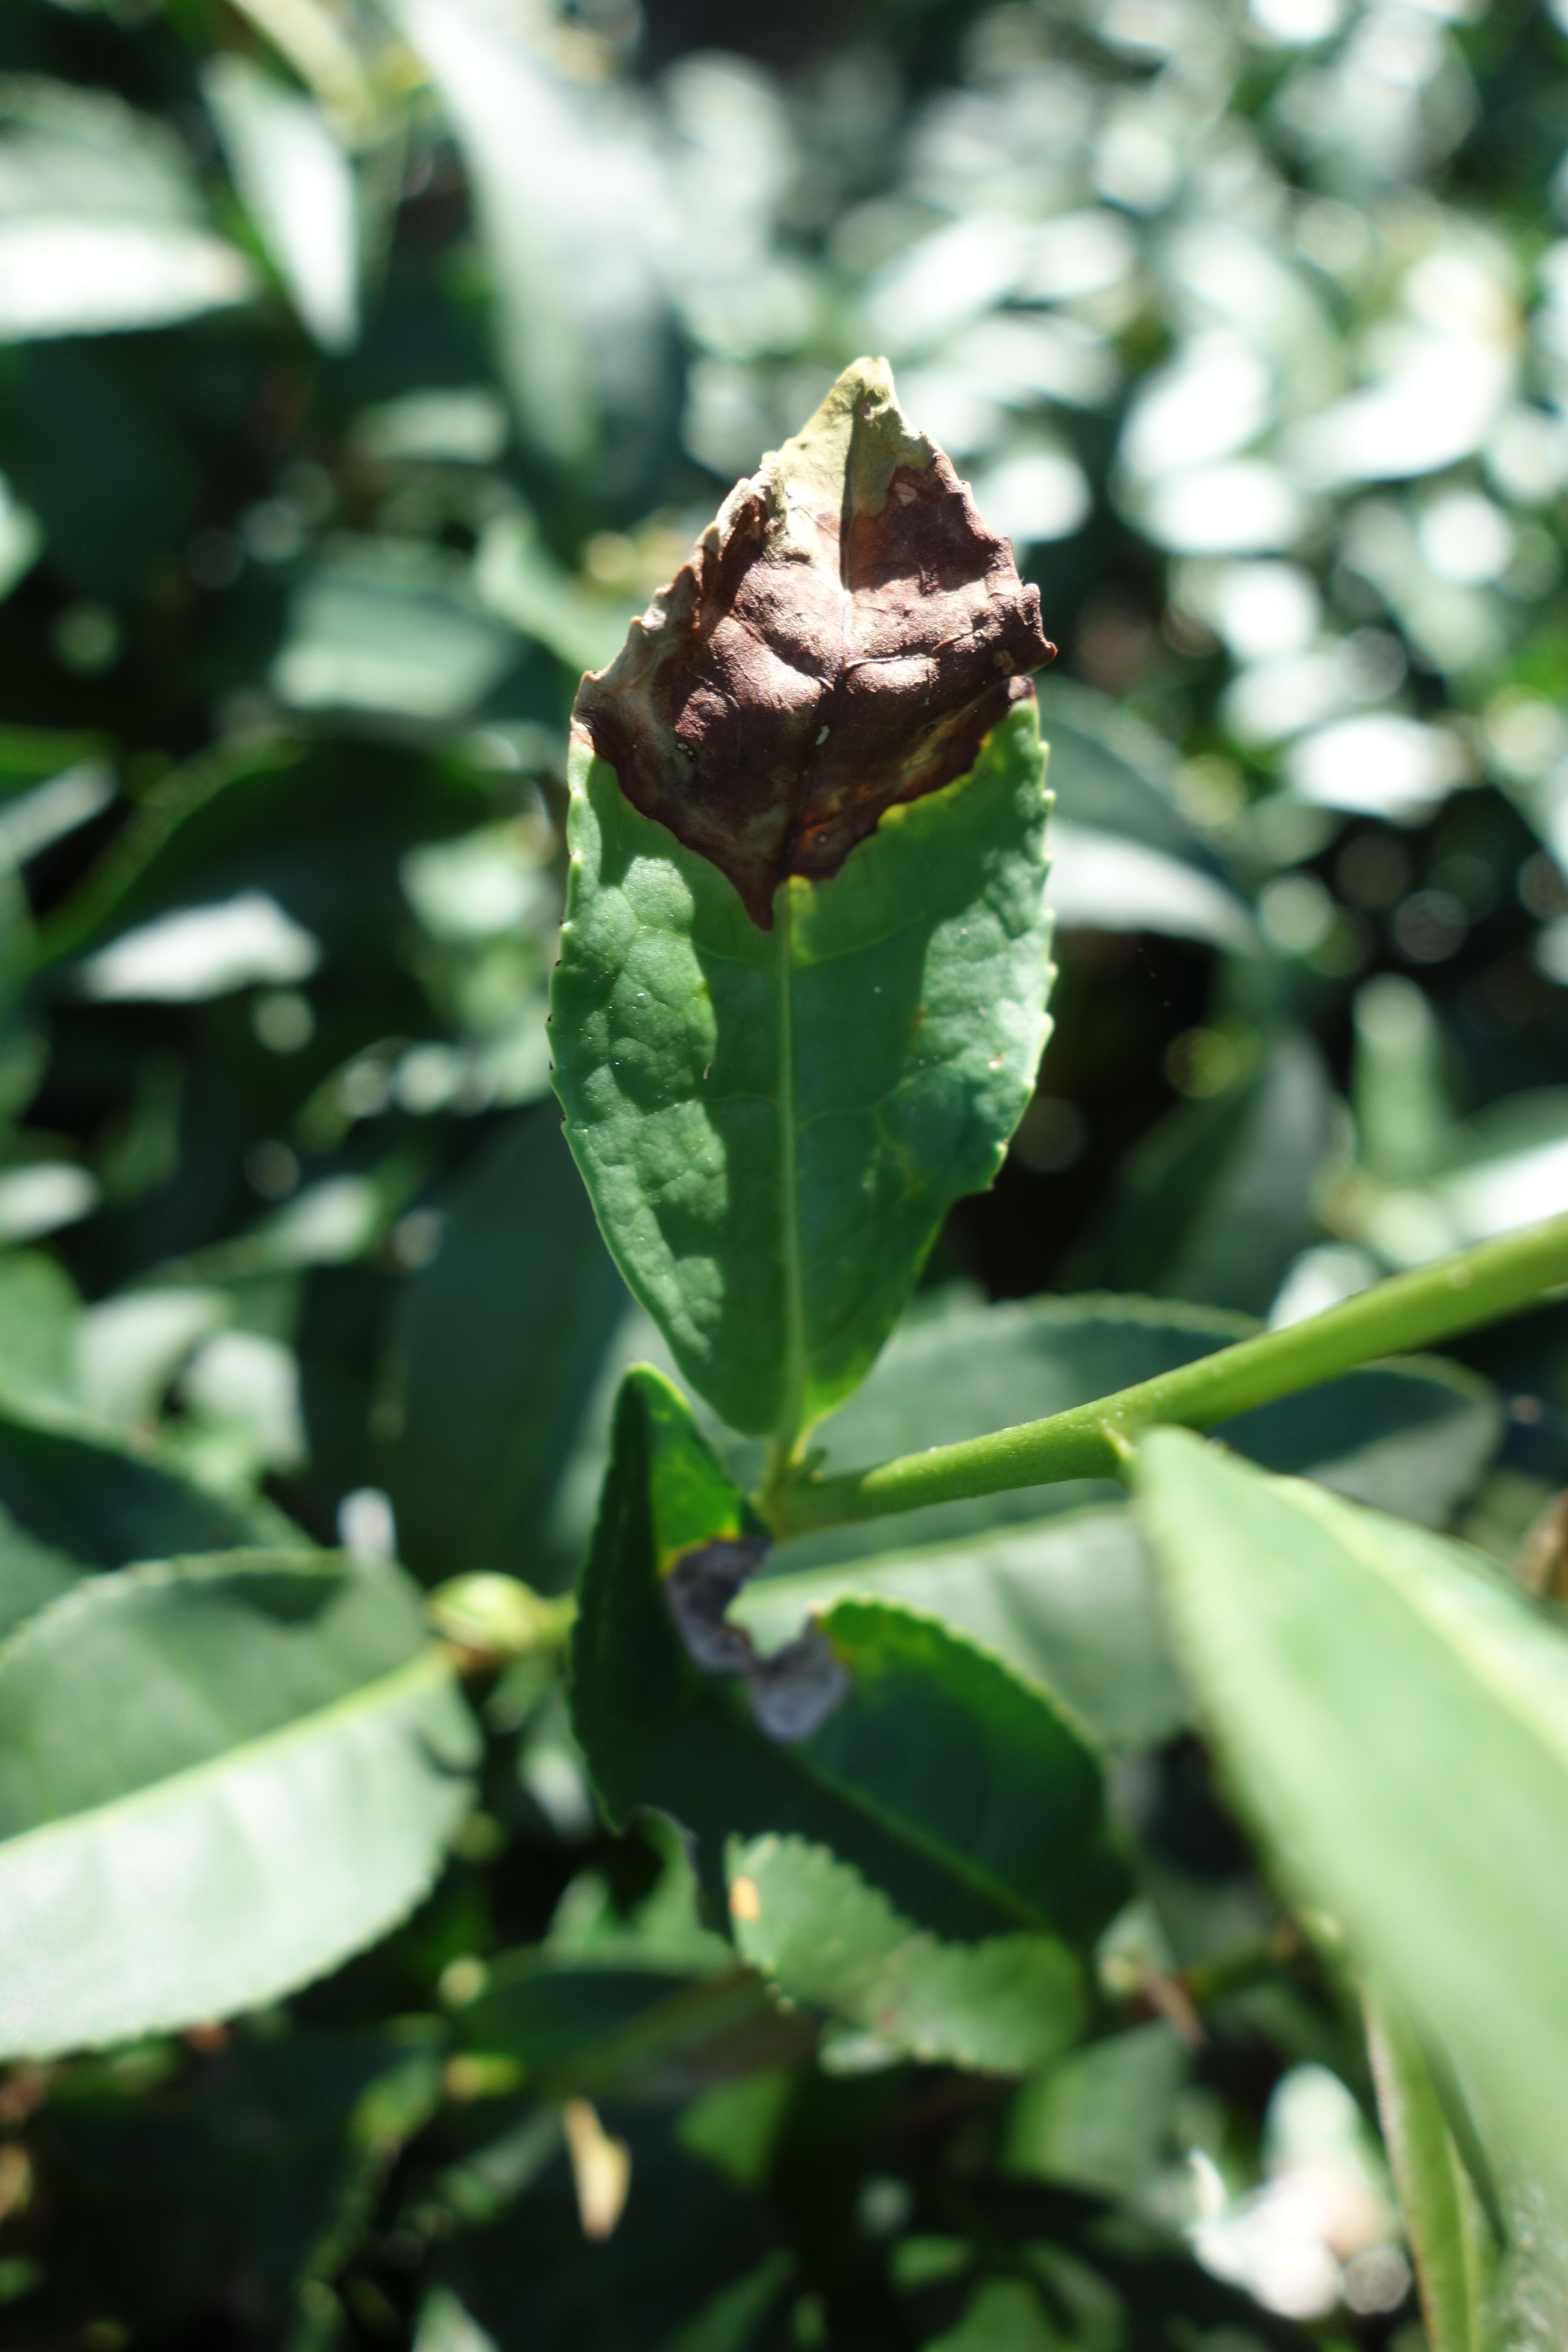tanju_high: (546, 357, 1057, 1451)
